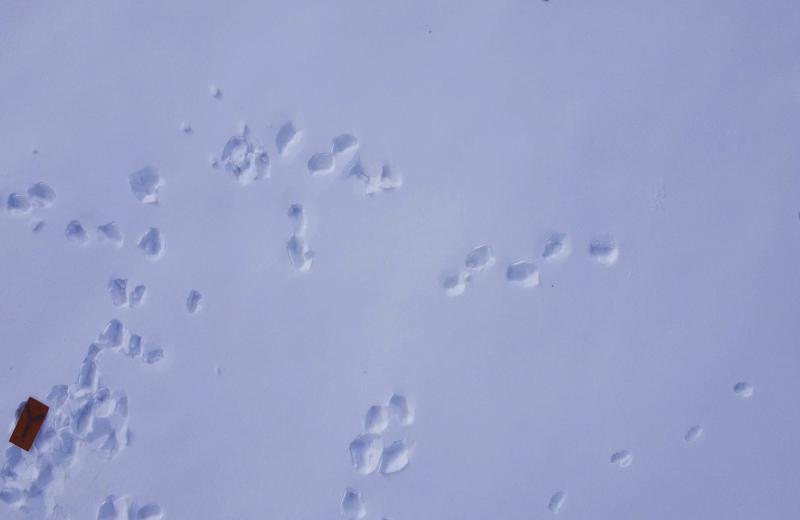Rectangle: (10, 394, 50, 454)
